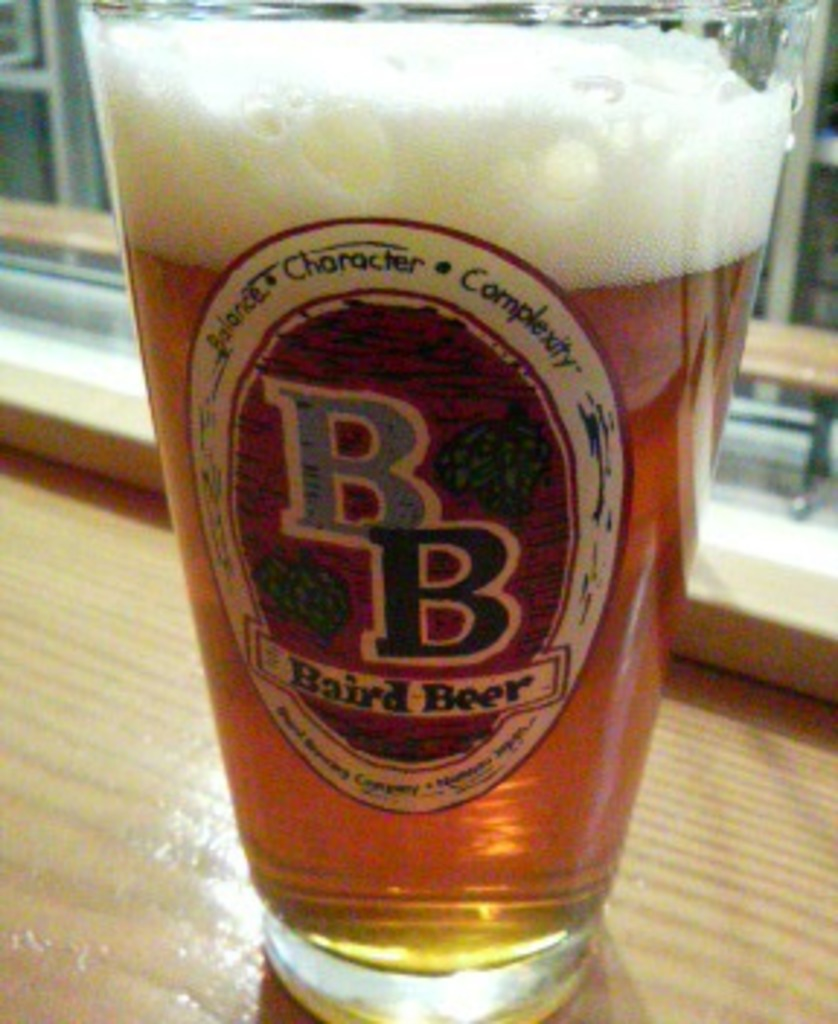Beer: (77, 0, 820, 1024)
